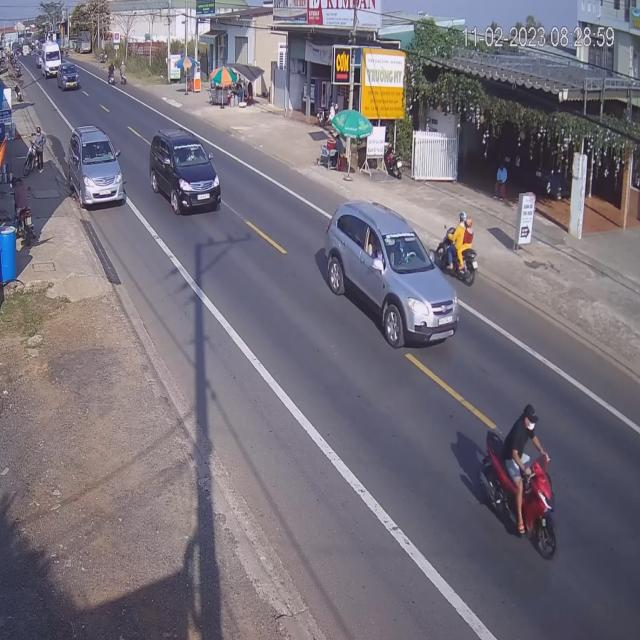bus: (40, 46, 60, 80)
car: (322, 200, 457, 349), (151, 130, 224, 219), (68, 125, 125, 208), (59, 62, 81, 92)
motorbike: (480, 406, 554, 555), (437, 214, 477, 288)
